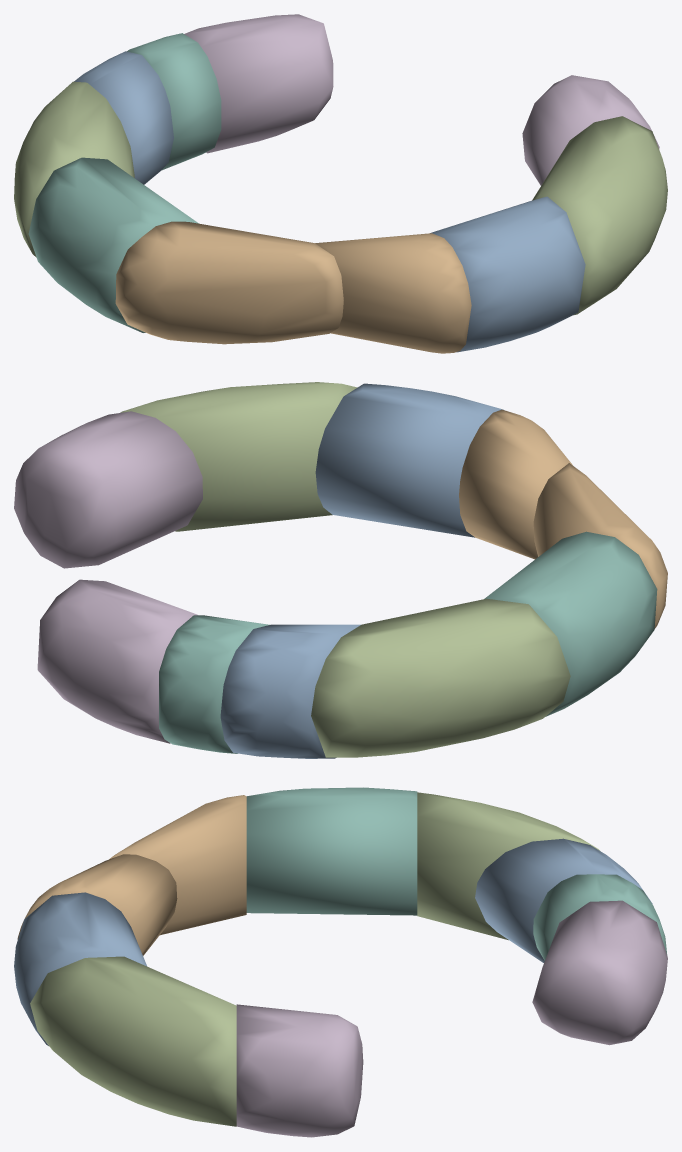
The picture shows the model from 3 angles, top to bottom: view 1: azimuth 30°, elevation 25°; view 2: azimuth 150°, elevation 25°; view 3: azimuth 270°, elevation 25°; orthographic projection. The views are drawn at different scales.
Bounding box in the file's own units: 2 × 0.3806 × 2.
